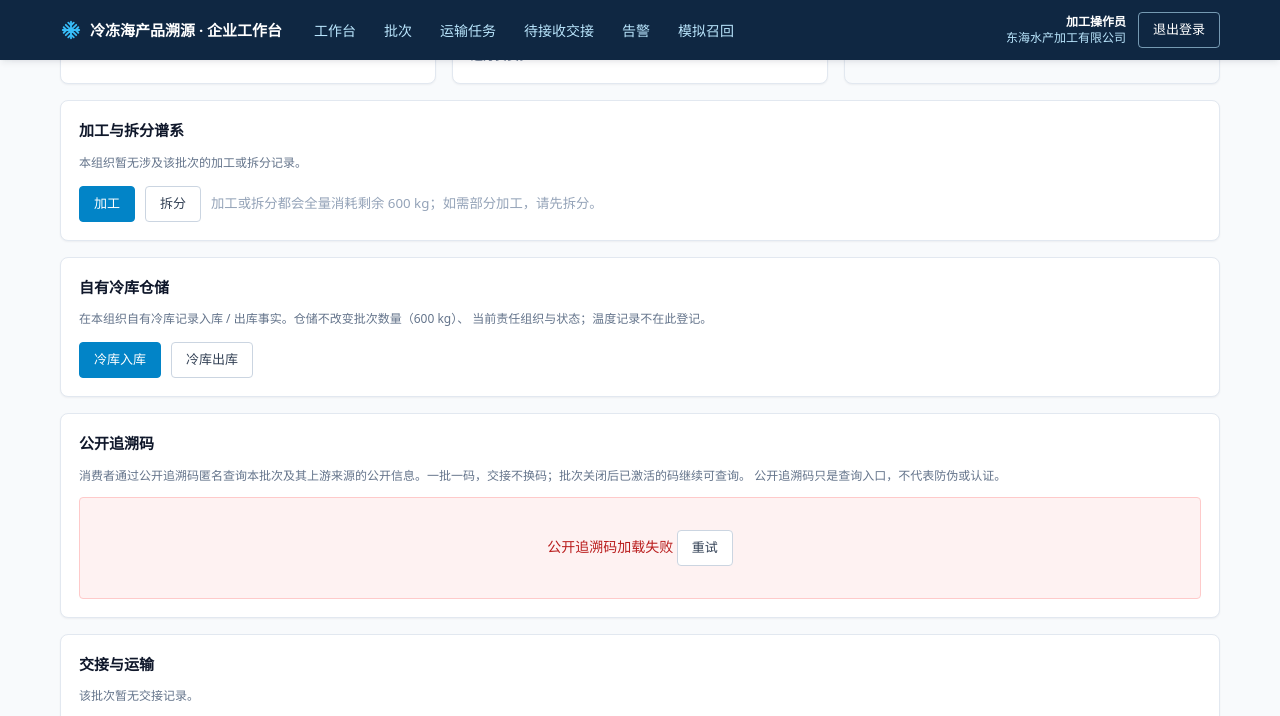
Test: Warehouse inbound / outbound form › shows an empty state when the org has no active cold store
The image size is (1280, 716).
(page scrolled)
Click the button with test id "warehouse-in".
click(120, 360)  # box left=79, top=342, right=161, bottom=378
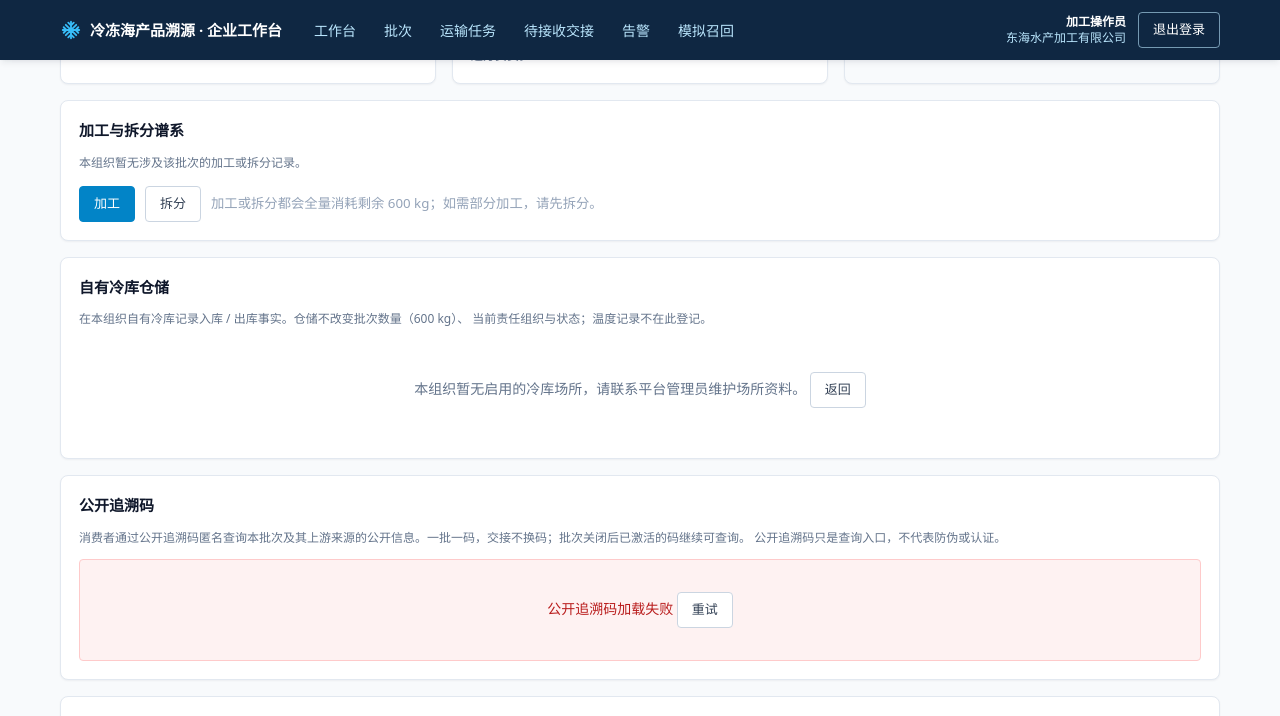
Check: the message "本组织暂无启用的冷库场所，请联系平台管理员维护场所资料。 返回" is shown, box left=414, top=372, right=866, bottom=408
